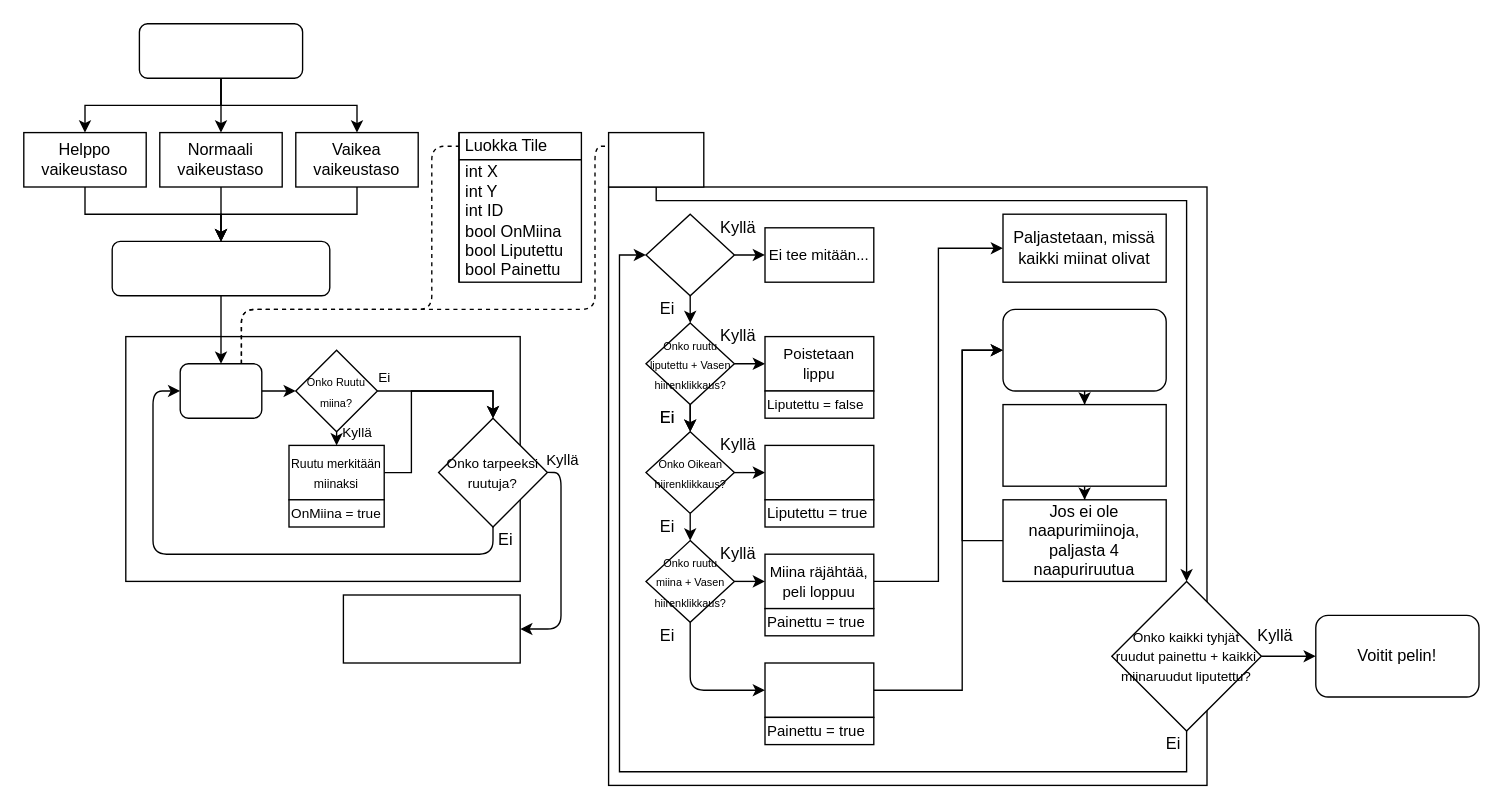
The diagram is 1503 pixels wide and 809 high, and some of its shapes have lost their labels. Each missing label, with the centre of its shape:
Katsotaan, jos 8 viereisessä naapuriruuduissa on miinoja: (x=1084, y=349)
Kun Ruutua painetaan: (x=655, y=159)
Lisätään lippu: (x=819, y=472)
Luodaan Miinakenttä, koko riippuu vaikeustasosta: (x=220, y=268)
Luodaan uusi Ruutu: (x=220, y=390)
Ohjelma aloitetaan: (x=220, y=50)
Onko Painettu totta?: (x=689, y=254)
Piilotetaan aloitusruudun asiat, Peli on valmis pelattavaksi: (x=431, y=628)
Ruudussa oleva numero nousee riippuen viereisistä naapurimiinoista: (x=1084, y=444)
Ruutu paljastetaan: (x=819, y=689)
